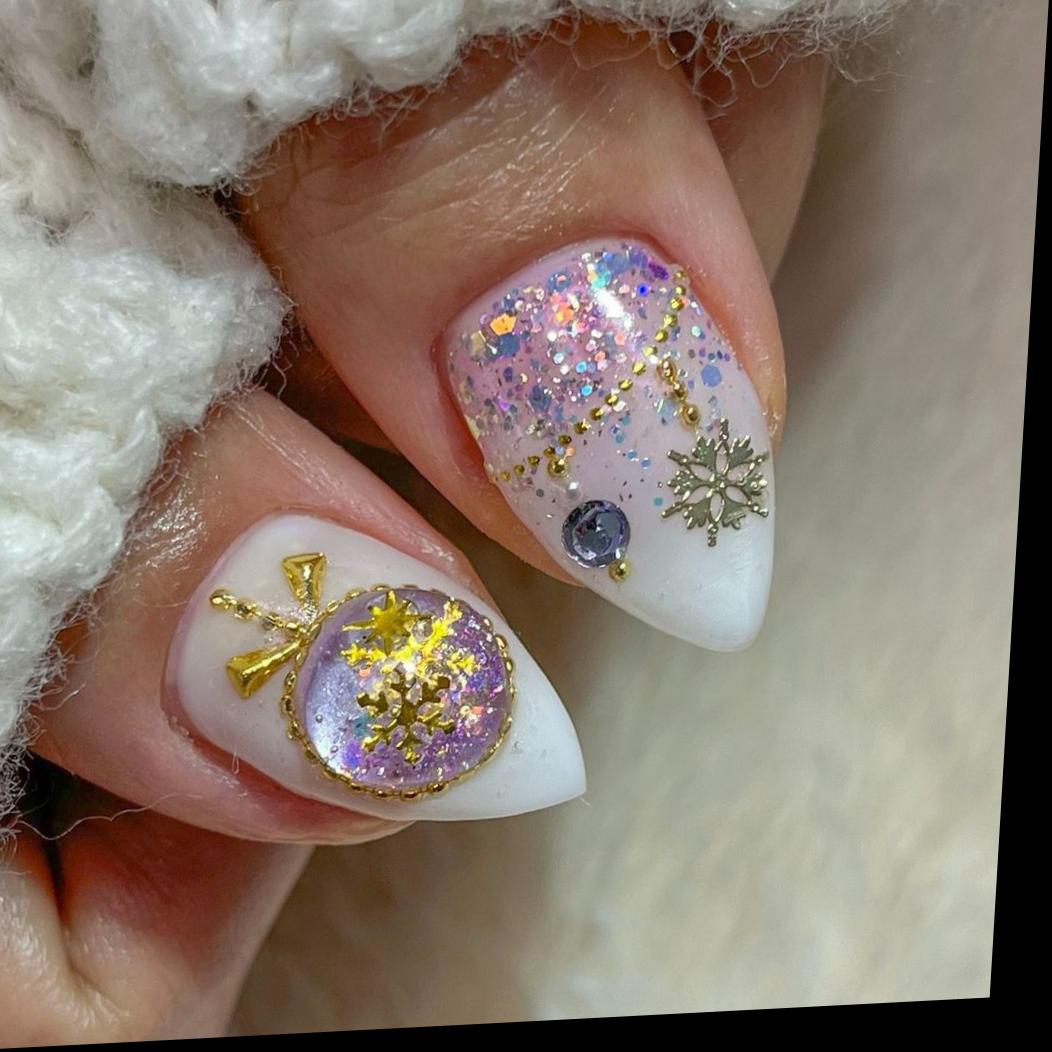nail: (415, 221, 798, 669), (151, 490, 606, 841)
